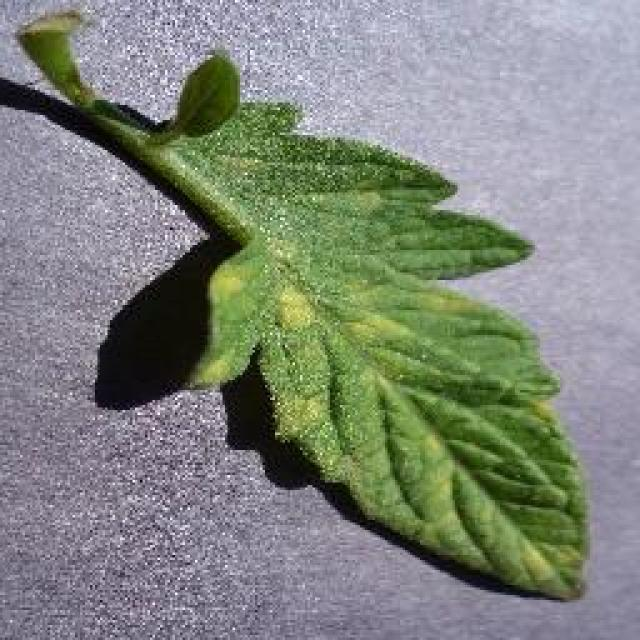Tomato___Leaf_Mold: (18, 10, 588, 598)
